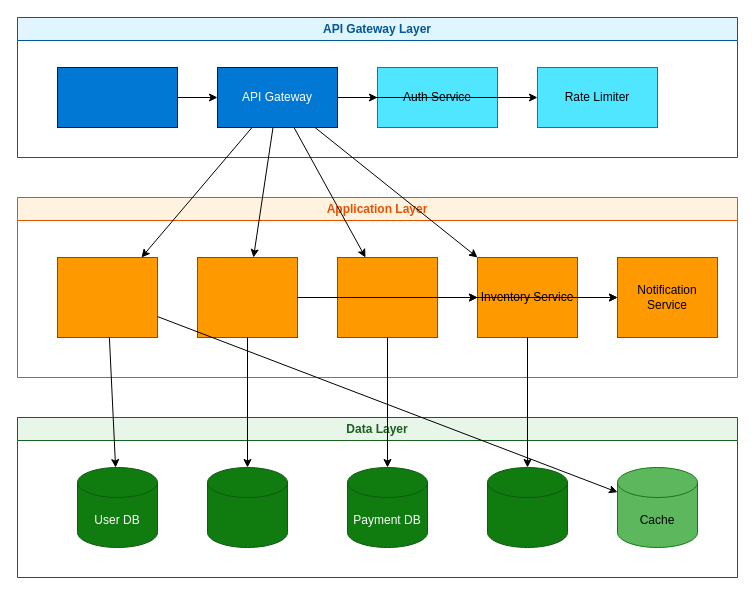
Some shapes in this 755 by 595 pixel diagram are drawn without their labels. The centre of each missing label's shape, as x and y in pixels:
"Inventory DB" belongs at pixel 527 507.
"Load Balancer" belongs at pixel 117 97.
"Order DB" belongs at pixel 247 507.
"Order Service" belongs at pixel 247 297.
"Payment Service" belongs at pixel 387 297.
"User Service" belongs at pixel 107 297.
